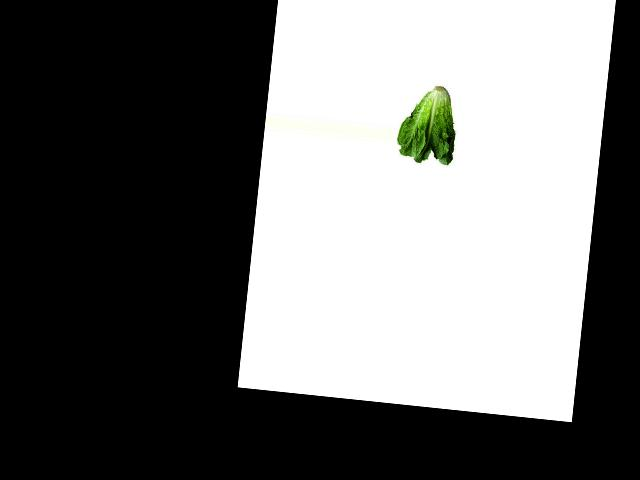lettuce: (395, 80, 462, 166)
